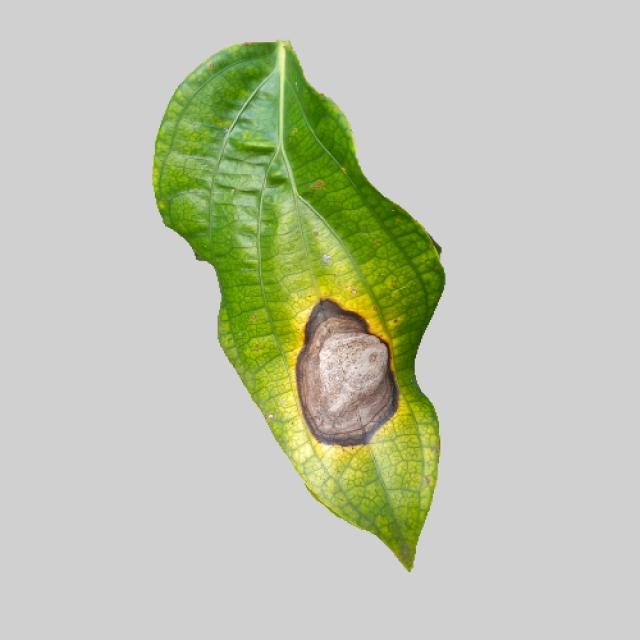leaf-blight: (101, 46, 465, 580)
